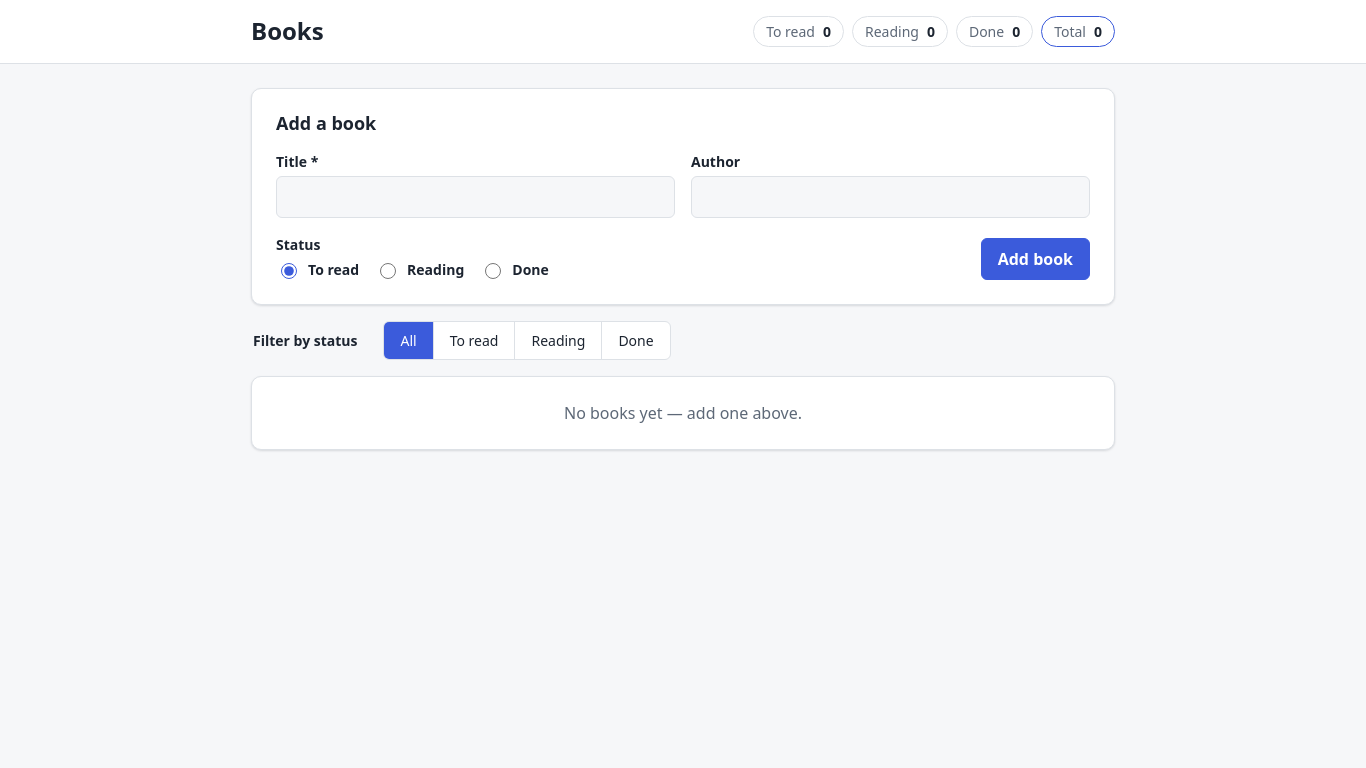
Test: AddBookForm › maps server 400 details to field errors
Type "Dune" into the field labelled "Title *" at (476, 197), box [276,176,675,218]
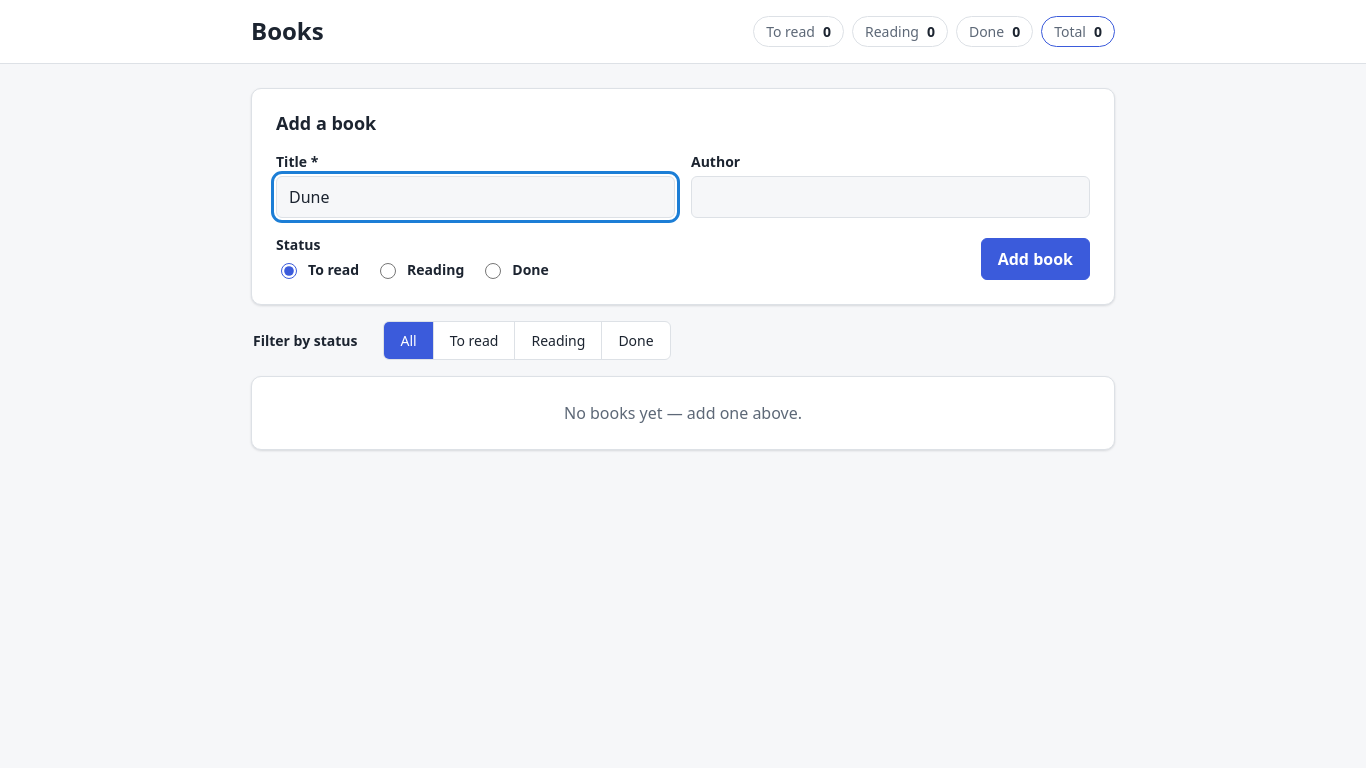
Type "Someone" into the field labelled "Author" at (890, 197), box [691,176,1090,218]
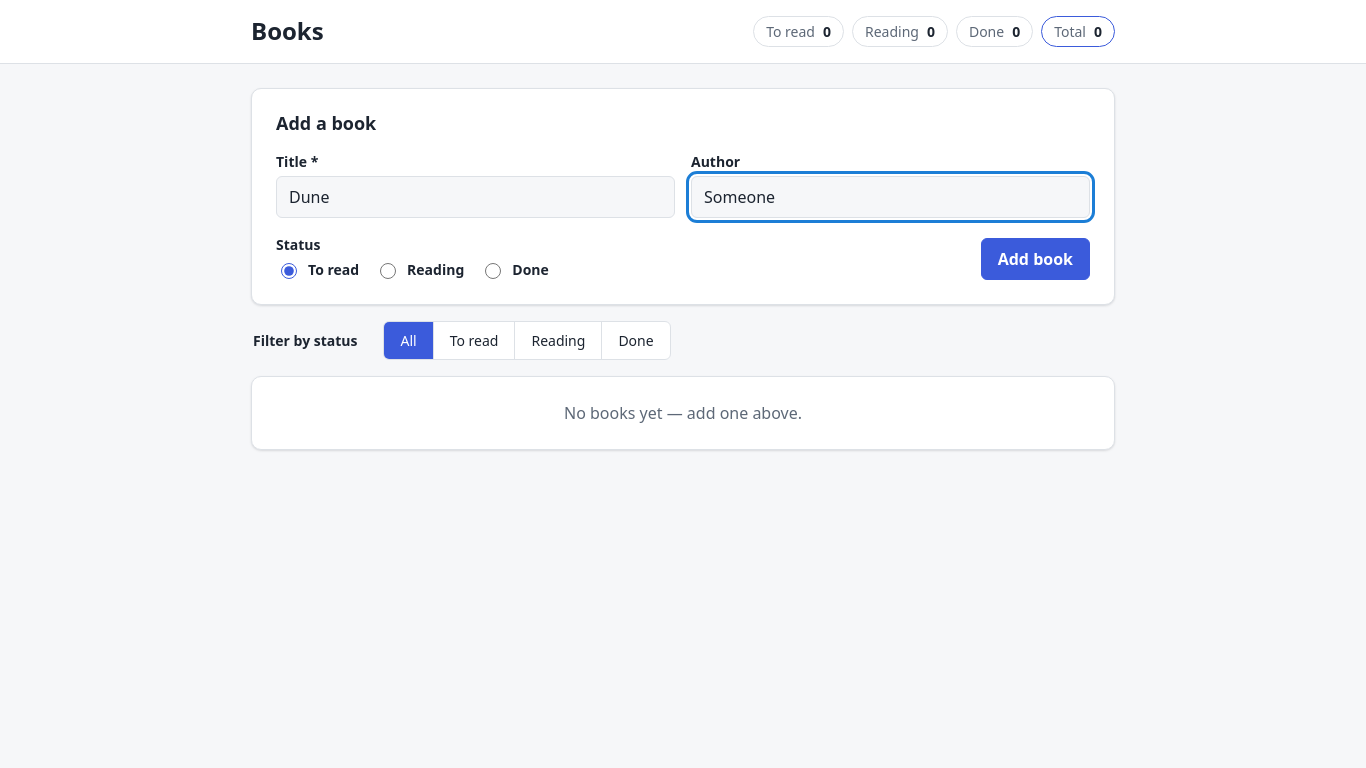
Click the button "Add book" at (1035, 259), box [981,238,1090,280]
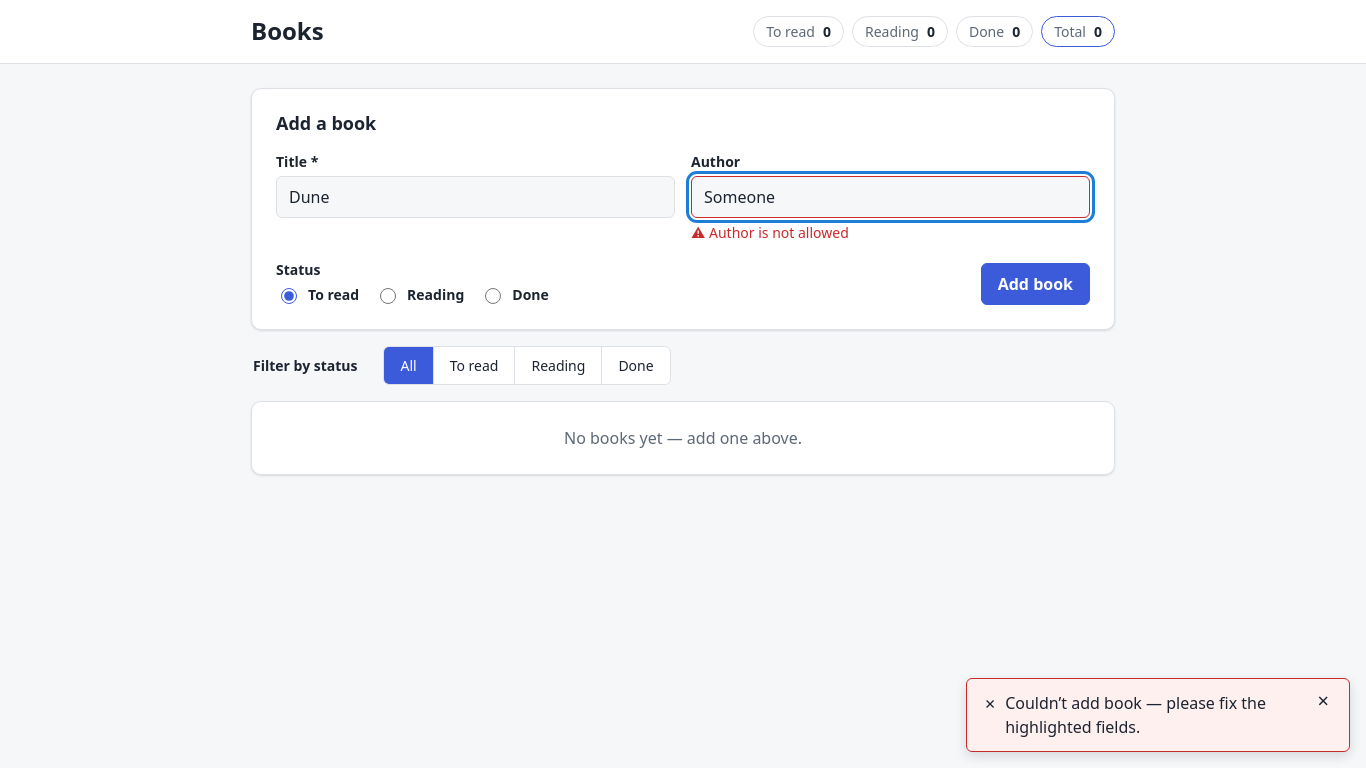
Expected: the text "Author is not allowed" is shown, [709,223,849,242]
Expected: the text "Couldn’t add book — please fix the highlighted fields." is shown, [1005,691,1306,739]
